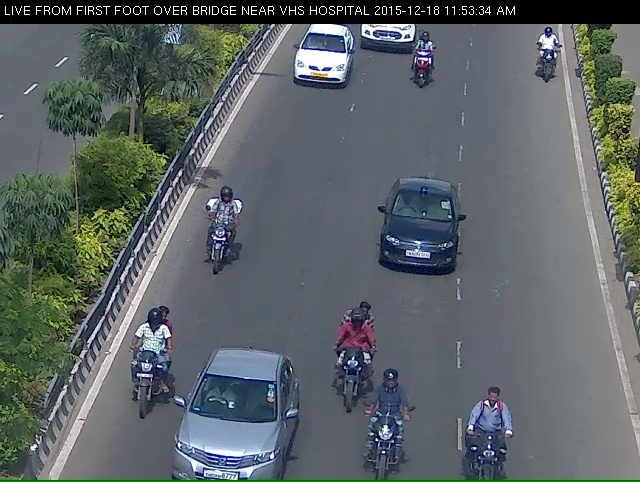Car: (163, 385, 297, 479), (362, 189, 466, 303), (292, 31, 350, 103), (361, 25, 421, 57)
Person: (108, 345, 155, 447), (190, 202, 235, 297), (332, 330, 361, 455), (456, 424, 523, 477), (402, 42, 448, 108), (368, 402, 402, 480), (531, 30, 561, 96)
